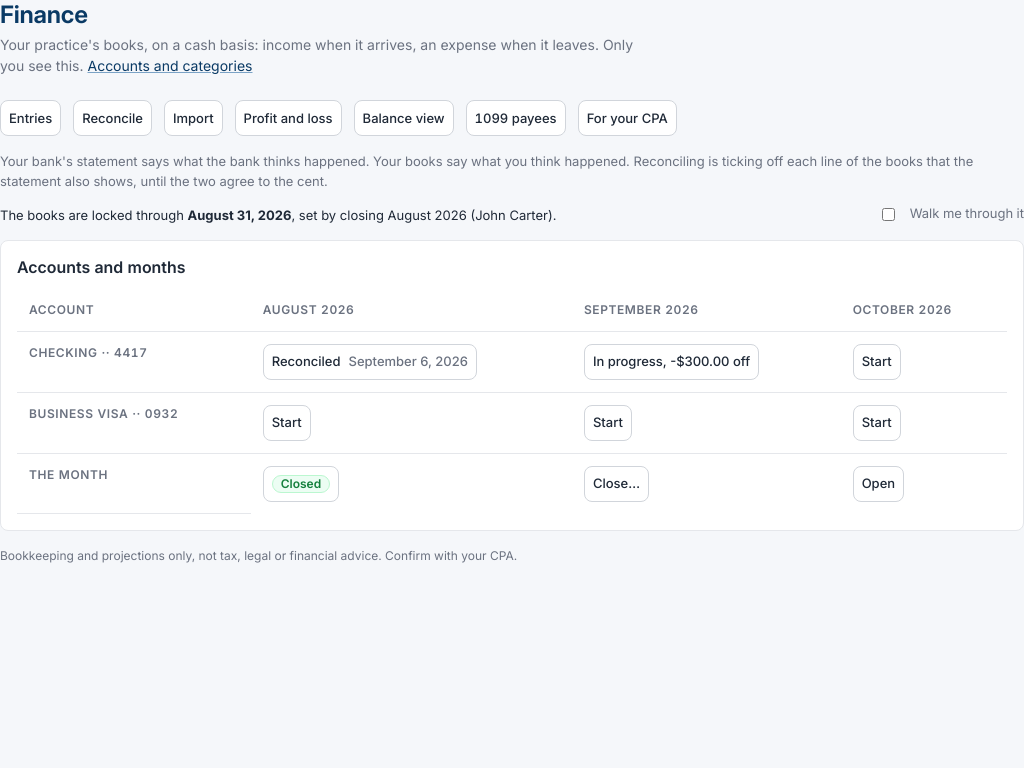
Test: reconciling an account › shows the PDF statement imported for the month, since it is the statement
The width and height of the screenshot is (1024, 768).
Click the button with aria-label "Checking, October 2026: start".
click(877, 362)  # box [853,344,901,380]
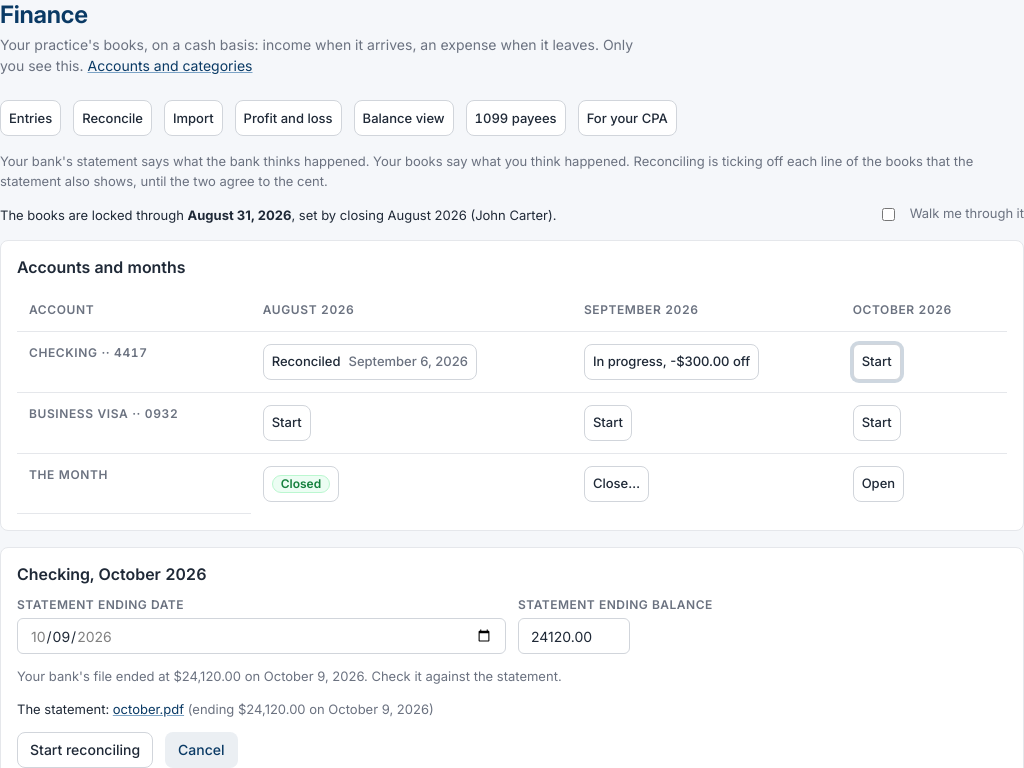
Check: the element named "The statement for this month" reads "The statement: october.pdf (ending $24,120.00 on October 9, 2026)", box [17,700,434,716]
